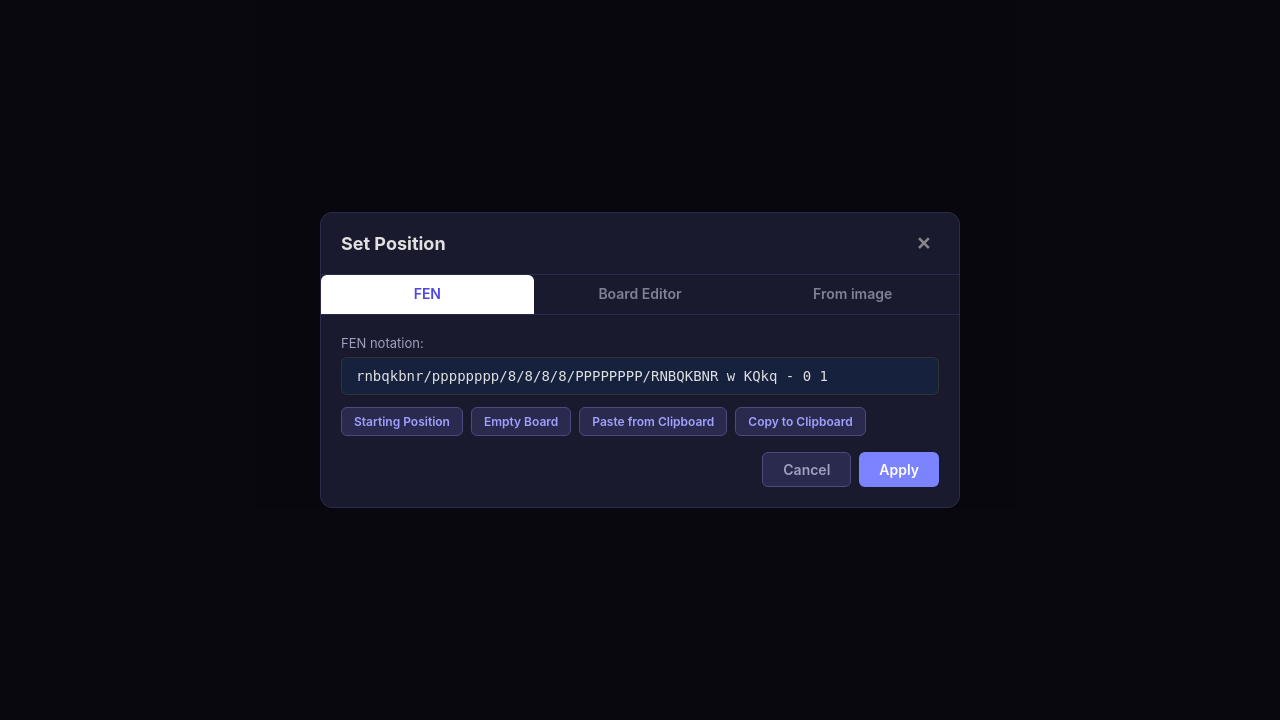
Scenario: <SetPositionModal> — KS-2220 Copy FEN to clipboard › ошибка: writeText reject → toast «Failed to copy FEN»
This screenshot has width=1280, height=720.
Click the button with test id "set-position-copy-fen" at x=801, y=422, box [735, 407, 866, 436]
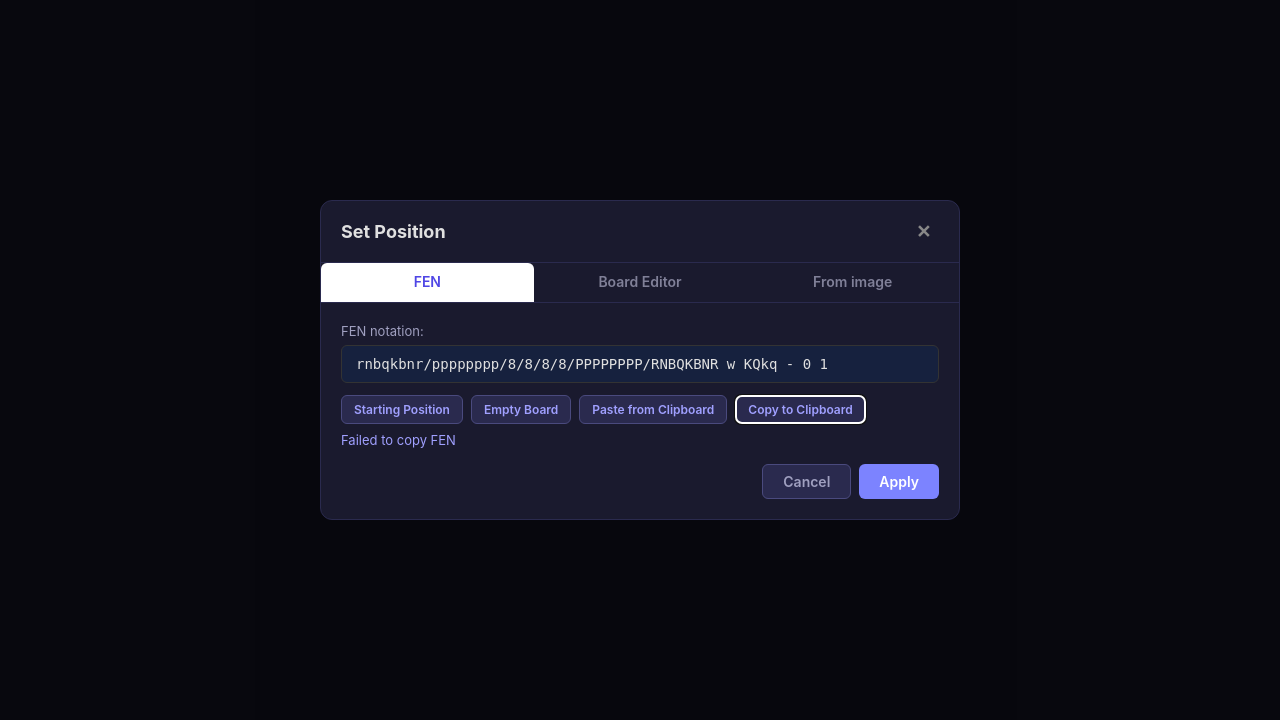
Expected: the message with test id "set-position-copy-fen-msg" shows "Failed", [341, 432, 456, 448]
